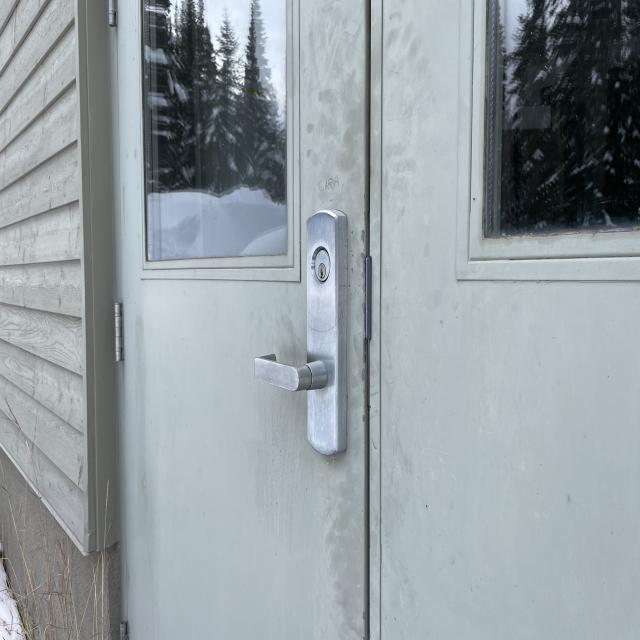door-handle: (255, 353, 328, 392)
